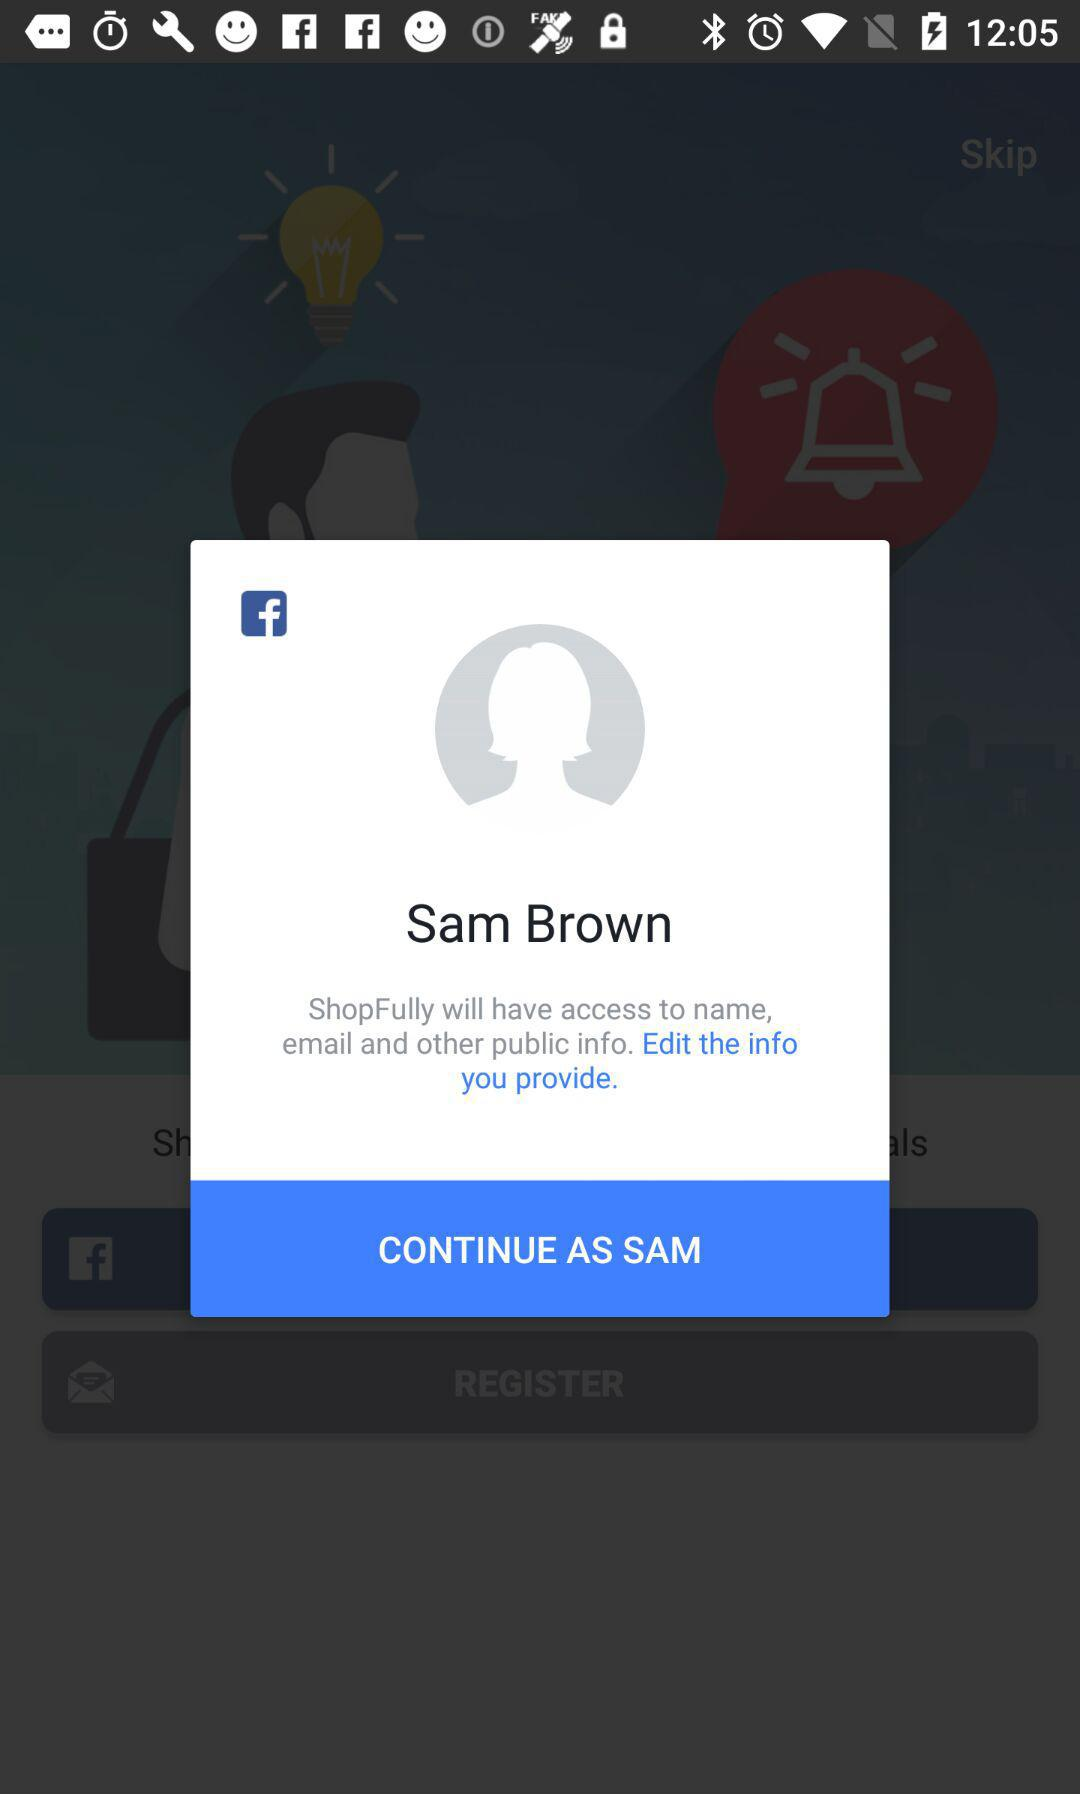Icon: (436, 624, 646, 807), (241, 589, 290, 638)
Modal: (190, 539, 890, 1319)
Text: (282, 996, 799, 1096), (407, 903, 673, 944), (958, 136, 1039, 178)
TextButton: (190, 1181, 890, 1319)
UpperTaskBar: (1, 1, 1080, 64)
